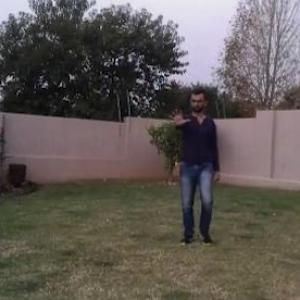follow_hand: (165, 102, 190, 130)
